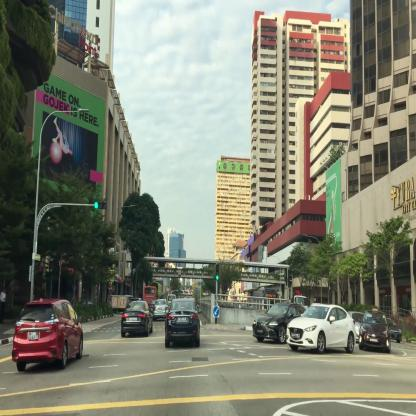green_traffic_light: (94, 203, 106, 209), (216, 264, 218, 279)
